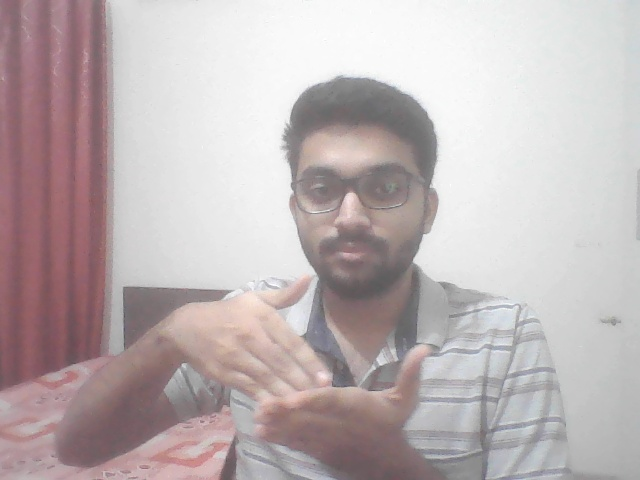again: (152, 237, 435, 466)
